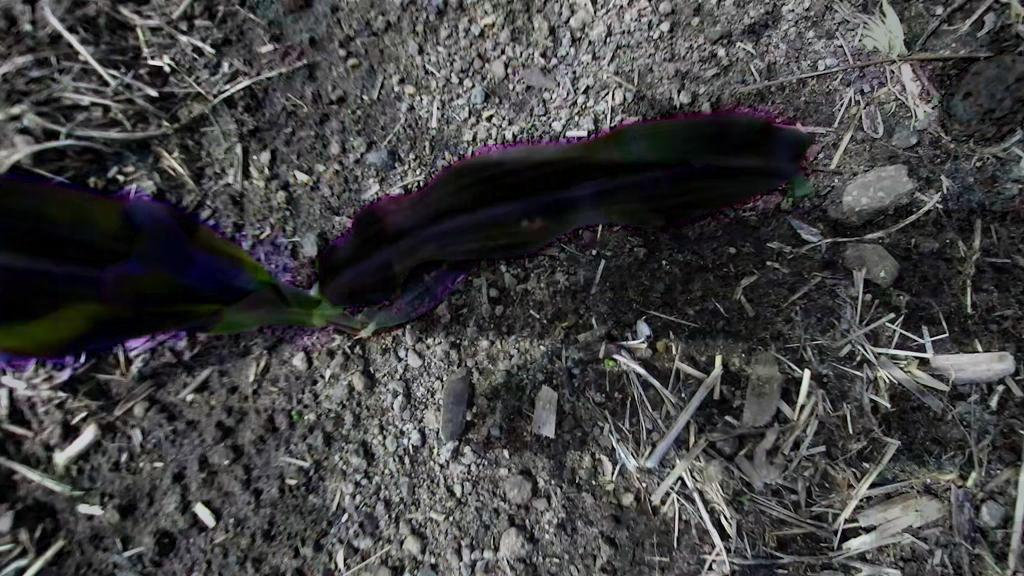BroWeed: (734, 488, 757, 511), (655, 338, 670, 356), (926, 95, 941, 112), (242, 230, 254, 250), (288, 408, 301, 422), (603, 358, 618, 368), (788, 196, 794, 206)
Maize: (0, 104, 827, 363)
